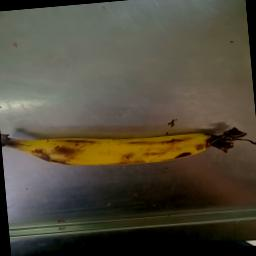Banana Ripe: (2, 104, 256, 182)
